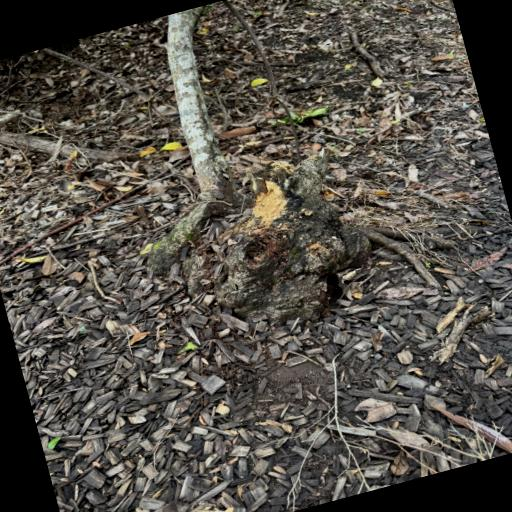tree root: (214, 149, 390, 323), (147, 5, 244, 275)
